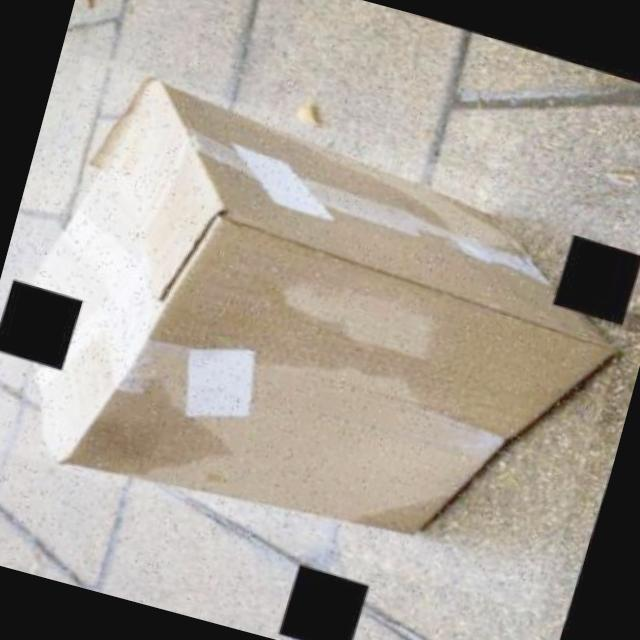box: (0, 51, 640, 619)
